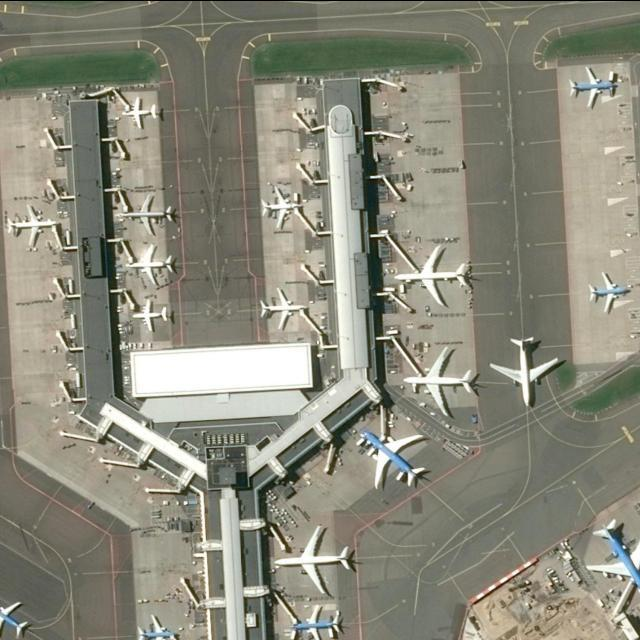Aircraft: (492, 331, 566, 411), (402, 346, 482, 418), (274, 528, 358, 594), (396, 245, 478, 309), (361, 426, 435, 490), (586, 520, 640, 600), (7, 204, 61, 251), (127, 244, 179, 289), (567, 66, 621, 109), (259, 185, 308, 230), (260, 286, 309, 331), (125, 194, 179, 234), (290, 602, 345, 640), (587, 270, 633, 314), (0, 594, 34, 640), (132, 297, 172, 333), (120, 93, 162, 127), (135, 619, 179, 640)
